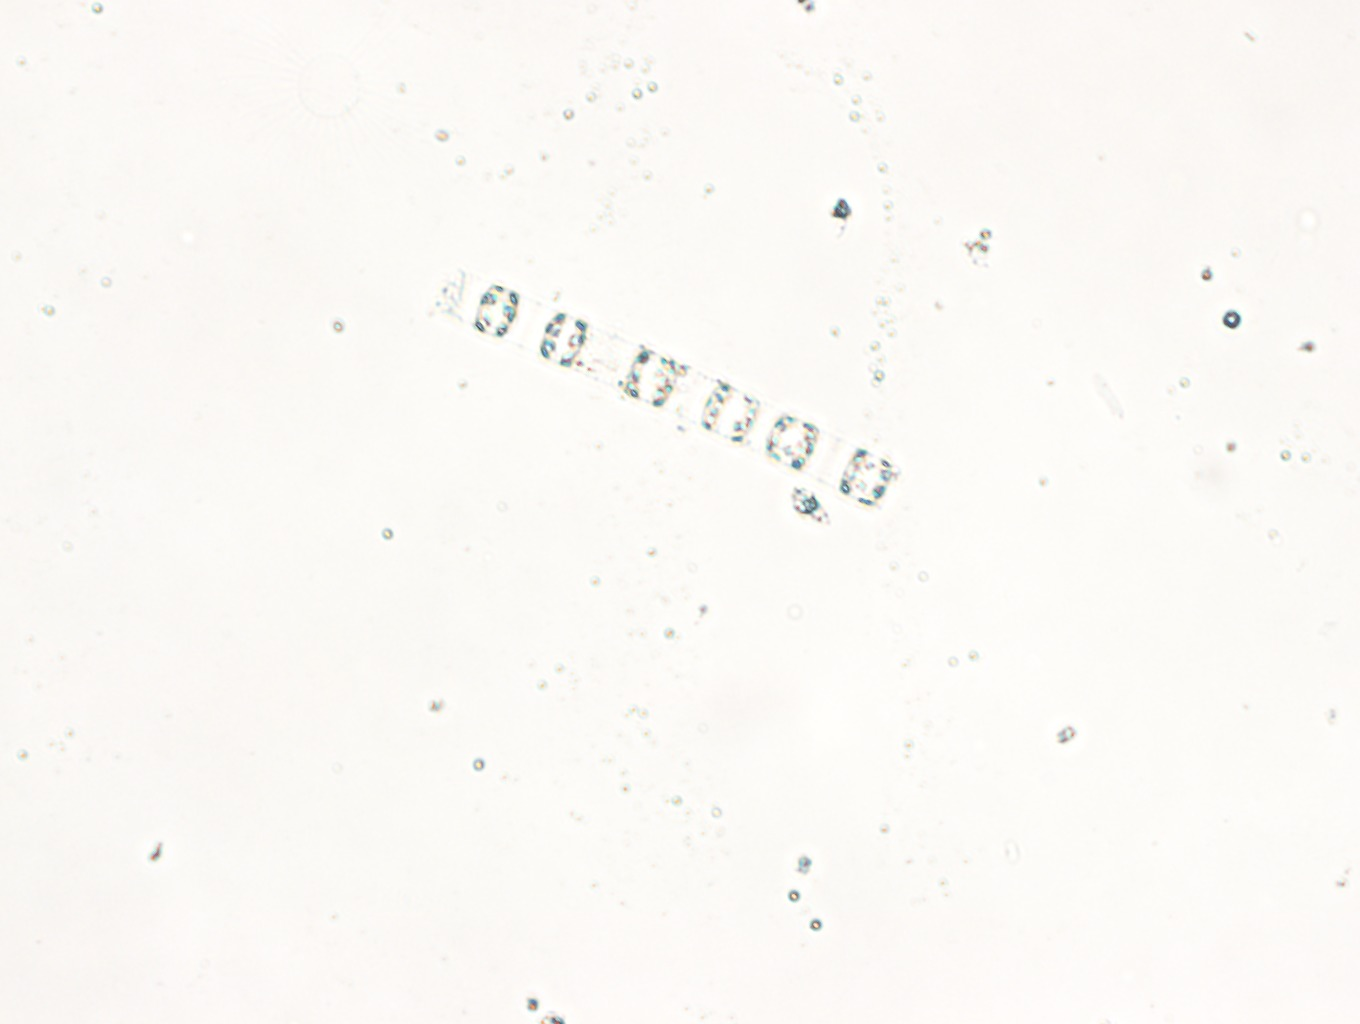skeletonema: (431, 264, 906, 513)
